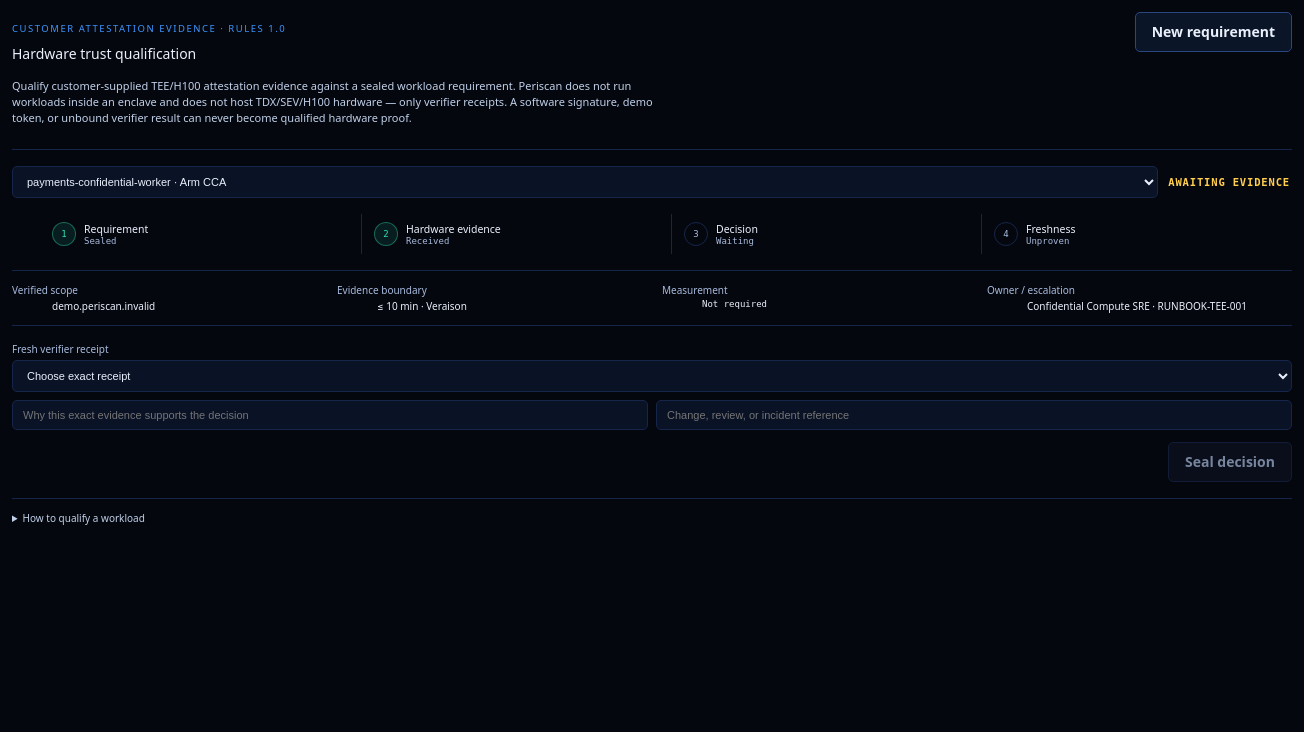
Test: TeeAssuranceDesk › seals a matching verifier receipt through one focused decision chain
This screenshot has width=1304, height=732.
Expected: the heading "Hardware trust qualification" is shown, [12,44,196,63]
Expected: the text "does not run workloads inside an enclave" is shown, [12,78,653,125]
Select "Verified · 7/16/2026, 12:01:00 PM · aaaaaaaaaa…aaaaaa" in the dropdown named "TEE assurance verifier receipt" at (652, 376), box [12,360,1292,392]
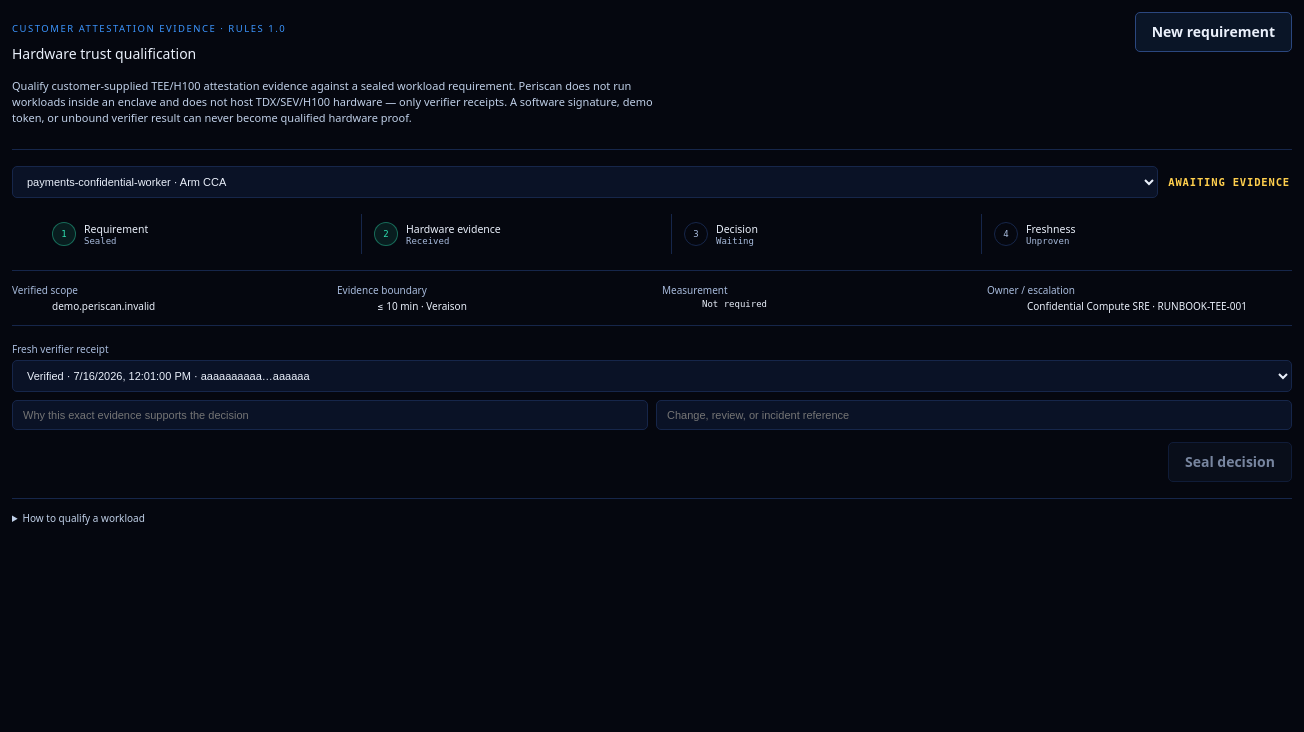
Type "Release review accepted the exact verifier receipt." into the field named "TEE assurance decision reason" at (330, 415), box [12,400,648,430]
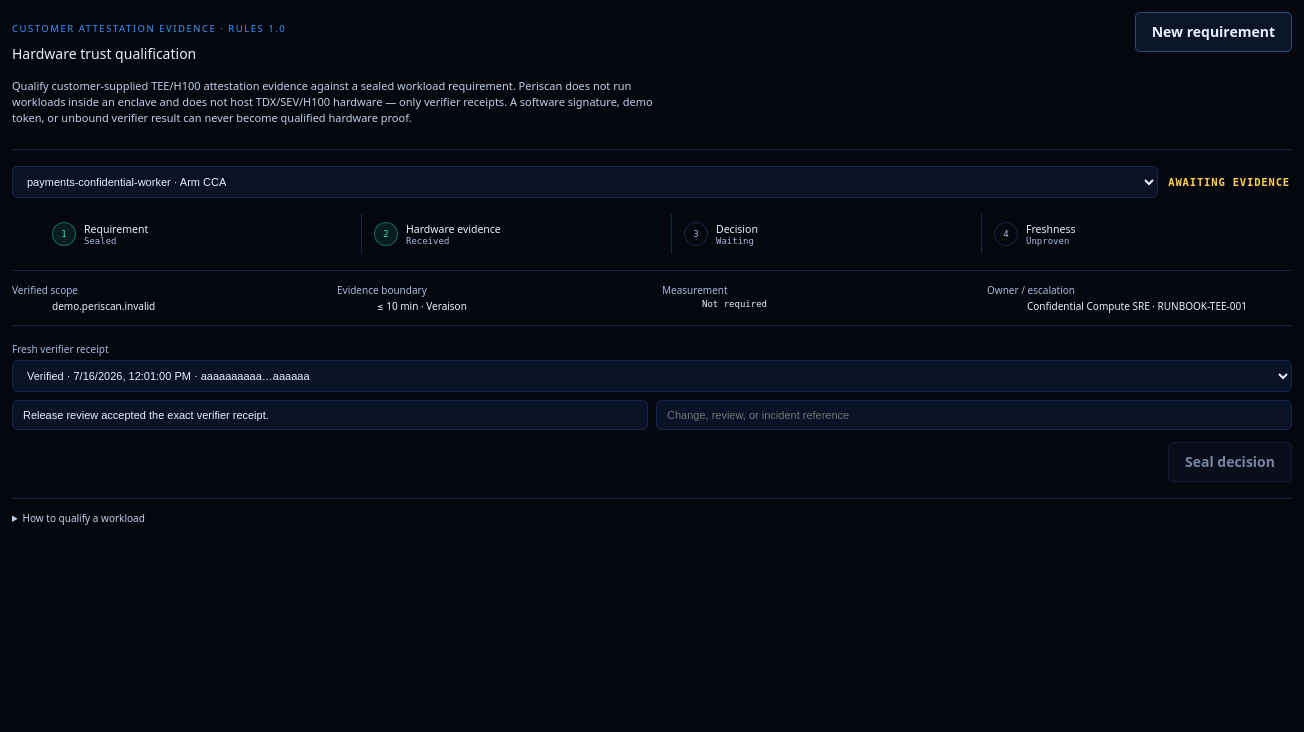
Type "TEE-REVIEW-001" into the field named "TEE assurance decision reference" at (974, 415), box [656,400,1292,430]
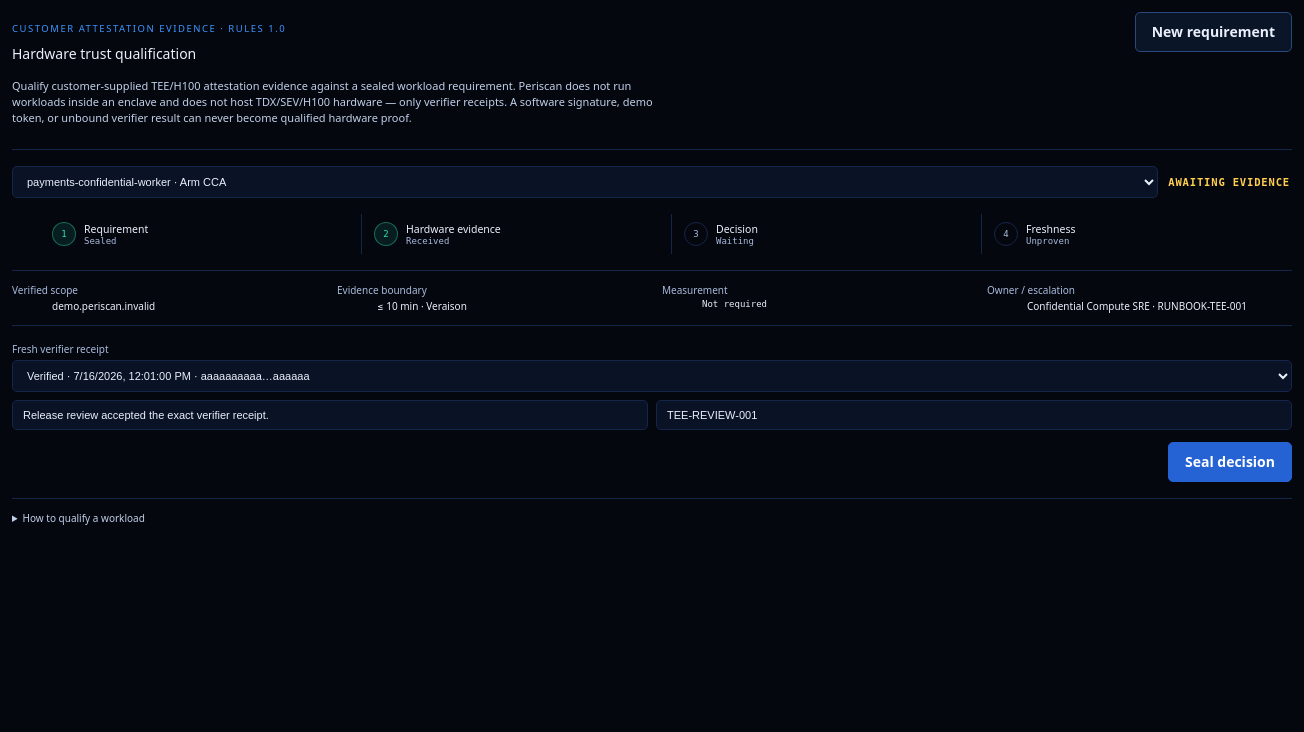
Click the button "Seal decision" at (1230, 462), box [1168,442,1292,482]
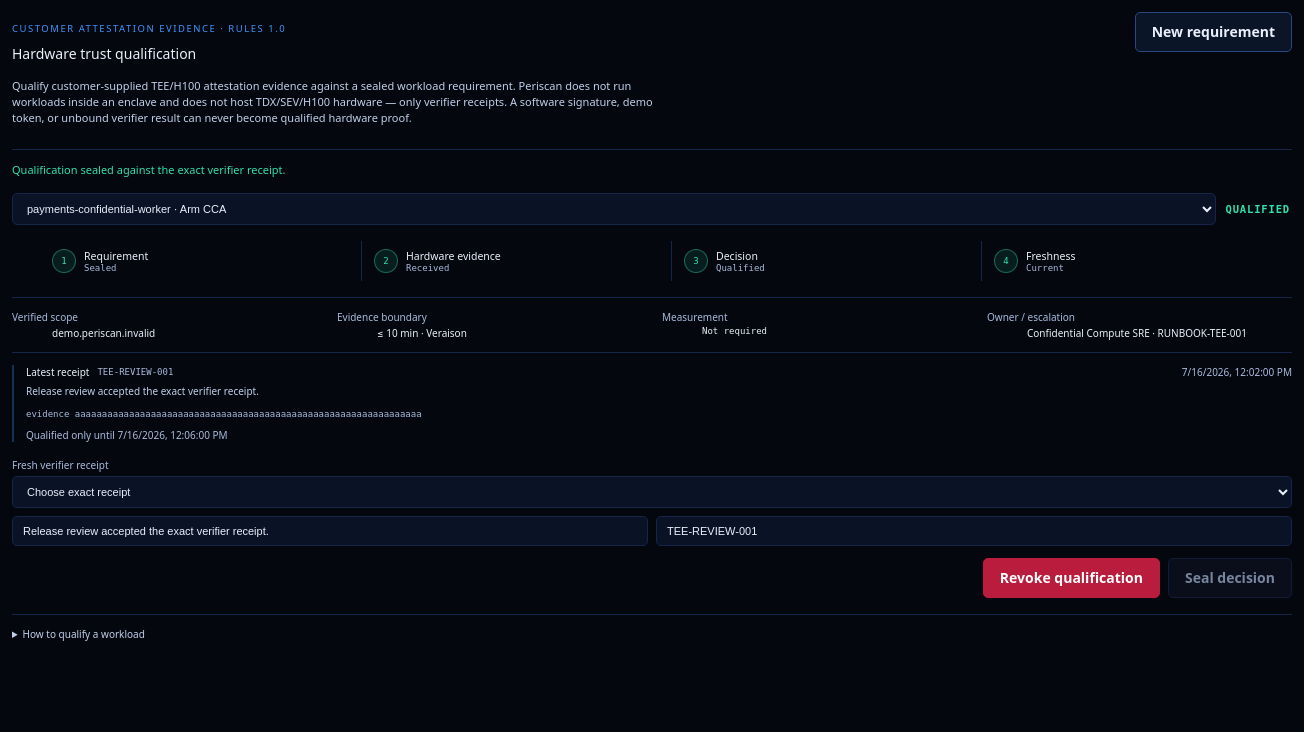
Expected: the text "Qualification sealed against the exact verifier receipt." is shown, [12,162,285,177]
Expected: the 1st text "Qualified" is shown, [1224,201,1292,217]
